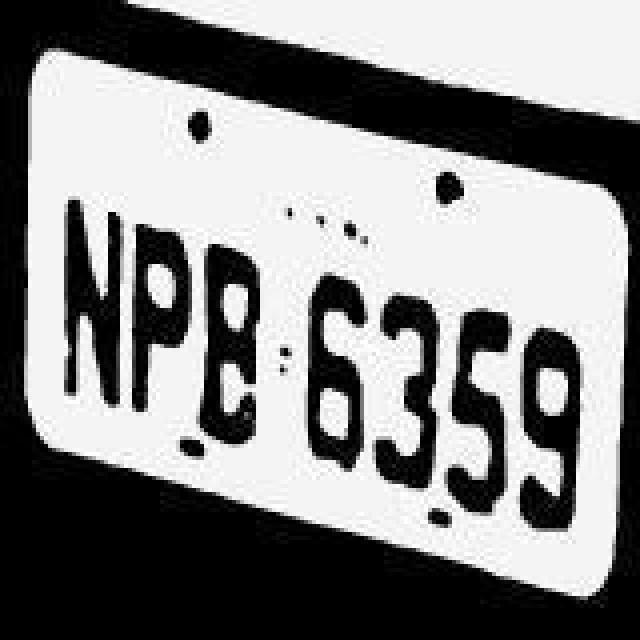3: (372, 244, 444, 508)
5: (446, 232, 514, 520)
6: (296, 246, 376, 490)
9: (512, 270, 584, 546)
B: (196, 228, 268, 444)
N: (46, 156, 122, 444)
P: (122, 192, 198, 432)
